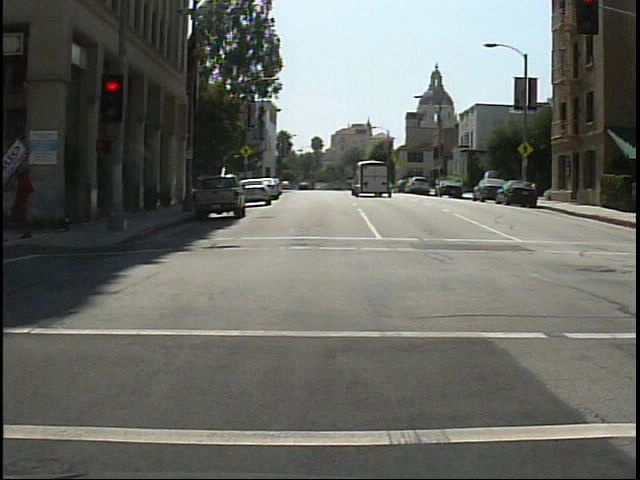person: (8, 164, 49, 244)
